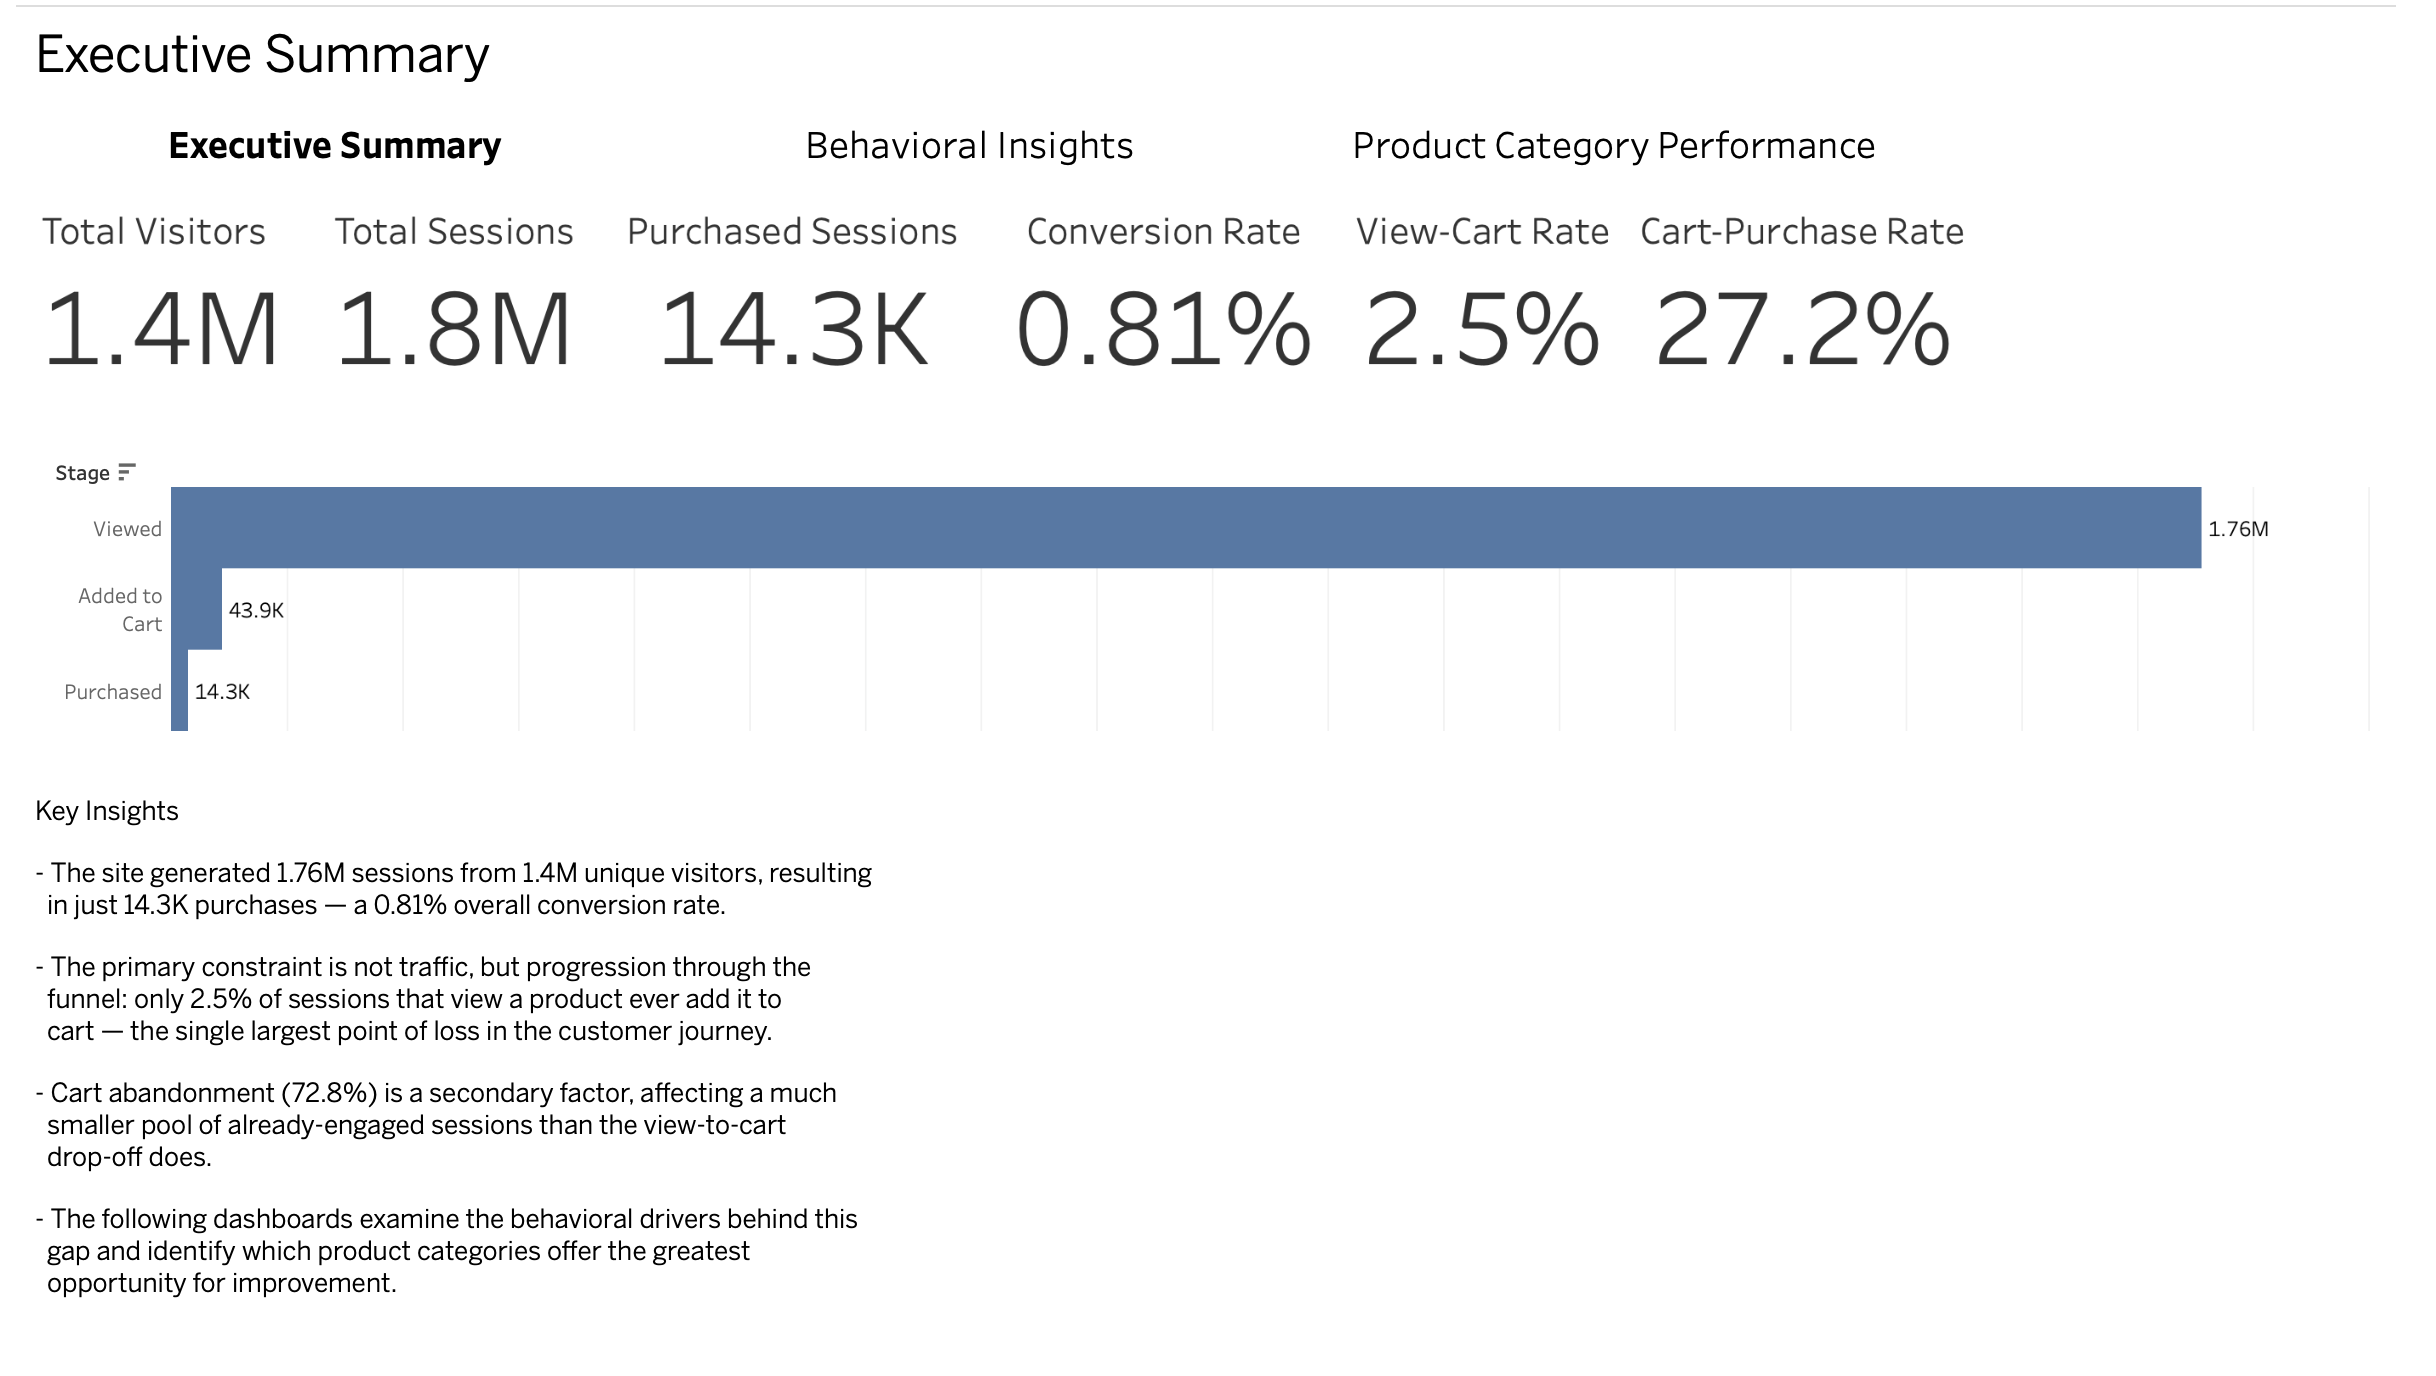

What the dashboard file says about the page in this screenshot:
{"tool":"tableau","page":{"name":"Executive Summary","canvas":[1400,900],"ordinal":1},"visuals":[{"type":"text","box":[8,8,1384,41]},{"type":"dashboard-object","box":[8,49,361,63]},{"type":"dashboard-object","box":[369,49,386,63]},{"type":"dashboard-object","box":[755,49,372,63]},{"type":"worksheet","title":"Total Visitors","mark":"Automatic","box":[8,112,168,147]},{"type":"worksheet","title":"Total Sess","mark":"Automatic","box":[176,112,168,147]},{"type":"worksheet","title":"purhc sess","mark":"Automatic","box":[344,112,228,147]},{"type":"worksheet","title":"conv rate","mark":"Automatic","box":[572,112,208,147]},{"type":"worksheet","title":"VCT","mark":"Automatic","box":[780,112,168,147]},{"type":"worksheet","title":"CTP","mark":"Automatic","box":[948,112,237,147]},{"type":"worksheet","title":"funnel chart","mark":"Bar","rows":["stage"],"cols":["sessions"],"box":[8,259,1384,200]},{"type":"text","box":[8,459,1384,304]}]}

Visuals, with their boxes on the page's 1400x900 design canvas (x1, y1, x2, y2). These are canvas units, not pixel positions in the 2436x1376 screenshot, which may show the page scaled, cropped or inside an application window:
text: rect(8, 8, 1392, 49)
dashboard-object: rect(8, 49, 369, 112)
dashboard-object: rect(369, 49, 755, 112)
dashboard-object: rect(755, 49, 1127, 112)
"Total Visitors" worksheet: rect(8, 112, 176, 259)
"Total Sess" worksheet: rect(176, 112, 344, 259)
"purhc sess" worksheet: rect(344, 112, 572, 259)
"conv rate" worksheet: rect(572, 112, 780, 259)
"VCT" worksheet: rect(780, 112, 948, 259)
"CTP" worksheet: rect(948, 112, 1185, 259)
"funnel chart" worksheet (Bar marks): rect(8, 259, 1392, 459)
text: rect(8, 459, 1392, 763)
